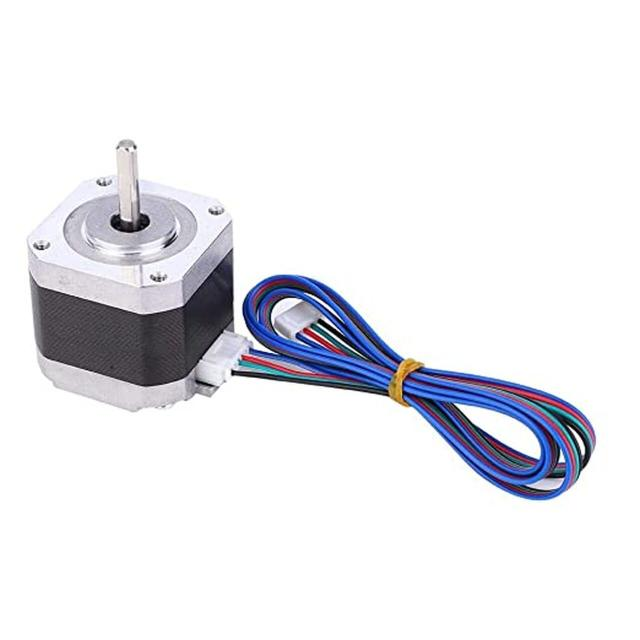motor: (23, 141, 246, 414)
